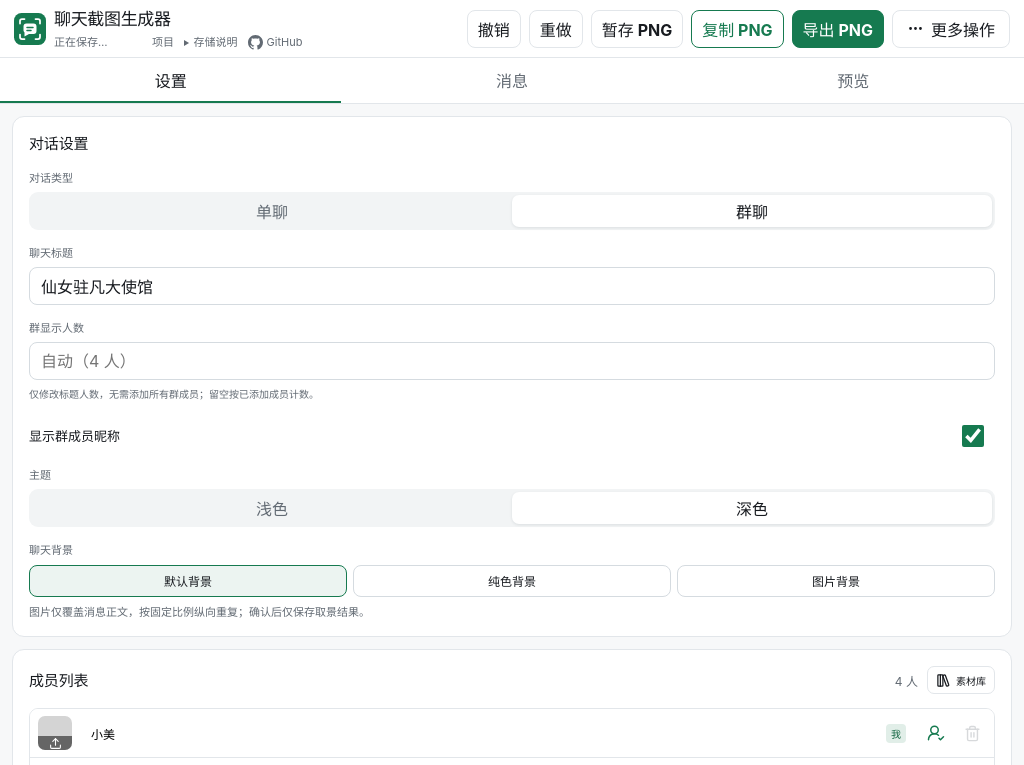
Scenario: App PNG clipboard delivery › cancels warning confirmation and resets the next action to download
Click the button "复制 PNG" at (737, 28), box [691,10,784,48]
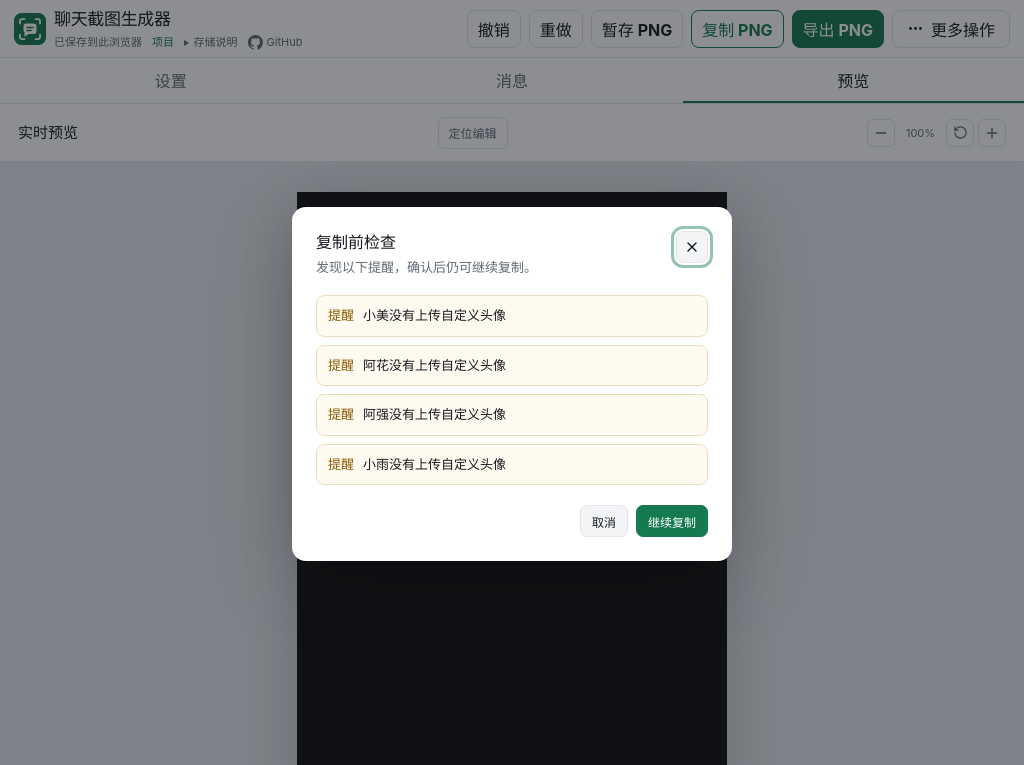
Check: the button named "关闭复制前检查" is enabled
Click the button named "关闭复制前检查" at (692, 246), box [676,230,708,262]
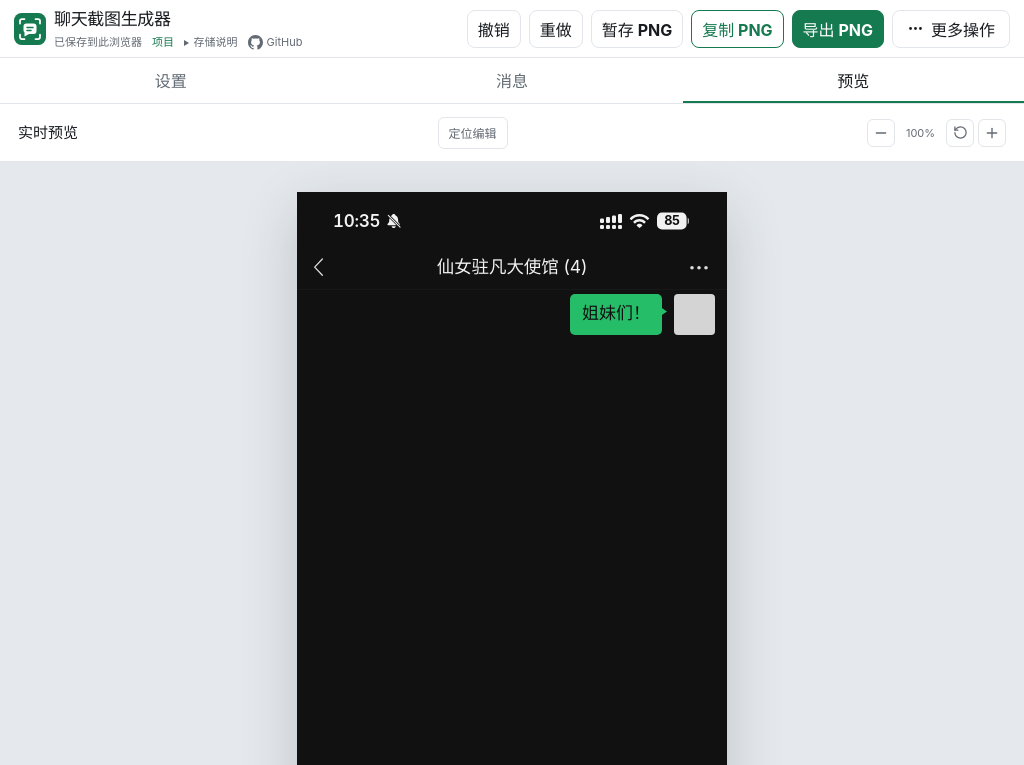
Click the button "导出 PNG" at (838, 28), box [792,10,884,48]
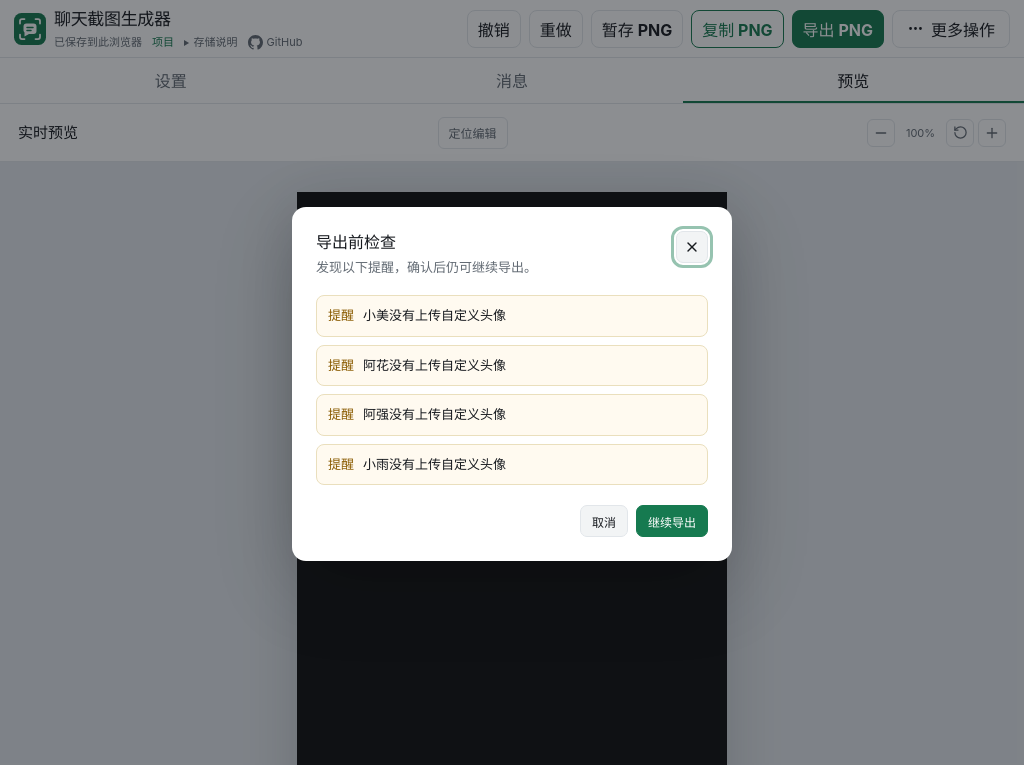
Check: the dialog "导出前检查" is shown, box [292,206,732,561]
Check: the button "继续导出" is enabled
Click the button "继续导出" at (672, 521), box [636,505,708,537]
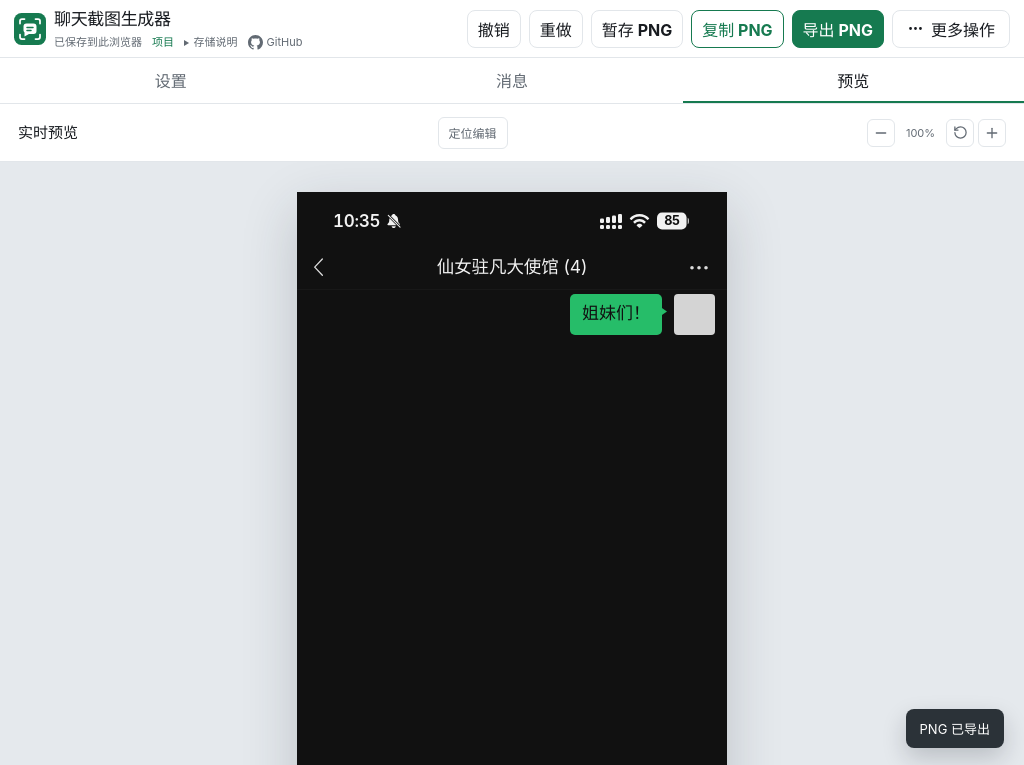
Check: the text "PNG 已导出" is shown, box [906,709,1004,748]
